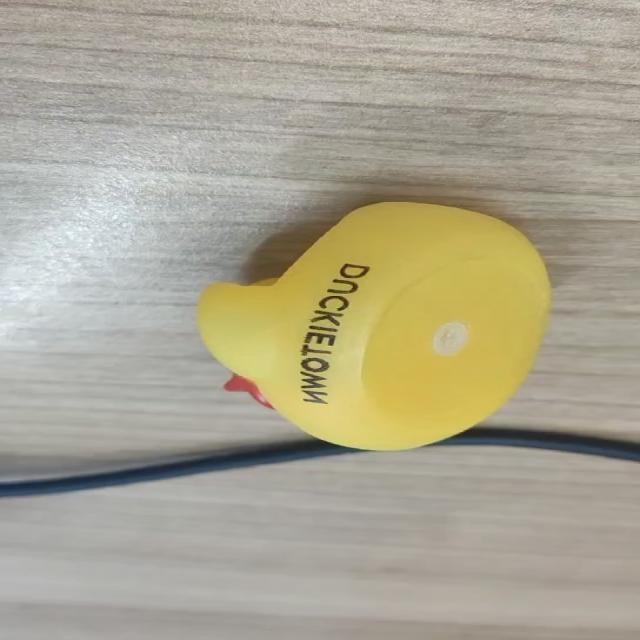rubber-duck: (196, 201, 549, 448)
